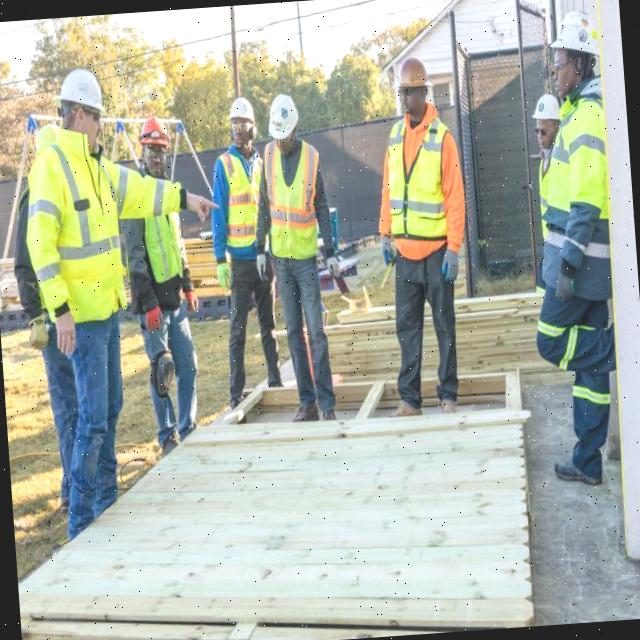boots: (552, 456, 604, 489), (288, 402, 319, 426), (386, 398, 422, 418), (436, 396, 458, 413)
helmet: (52, 66, 107, 120), (548, 8, 603, 62), (386, 58, 440, 96), (265, 92, 301, 140), (224, 94, 257, 127), (138, 114, 170, 148), (530, 92, 560, 122)
vest: (20, 121, 195, 325), (526, 92, 616, 304), (384, 116, 456, 242), (262, 136, 328, 262), (214, 148, 270, 250), (142, 209, 187, 285)
